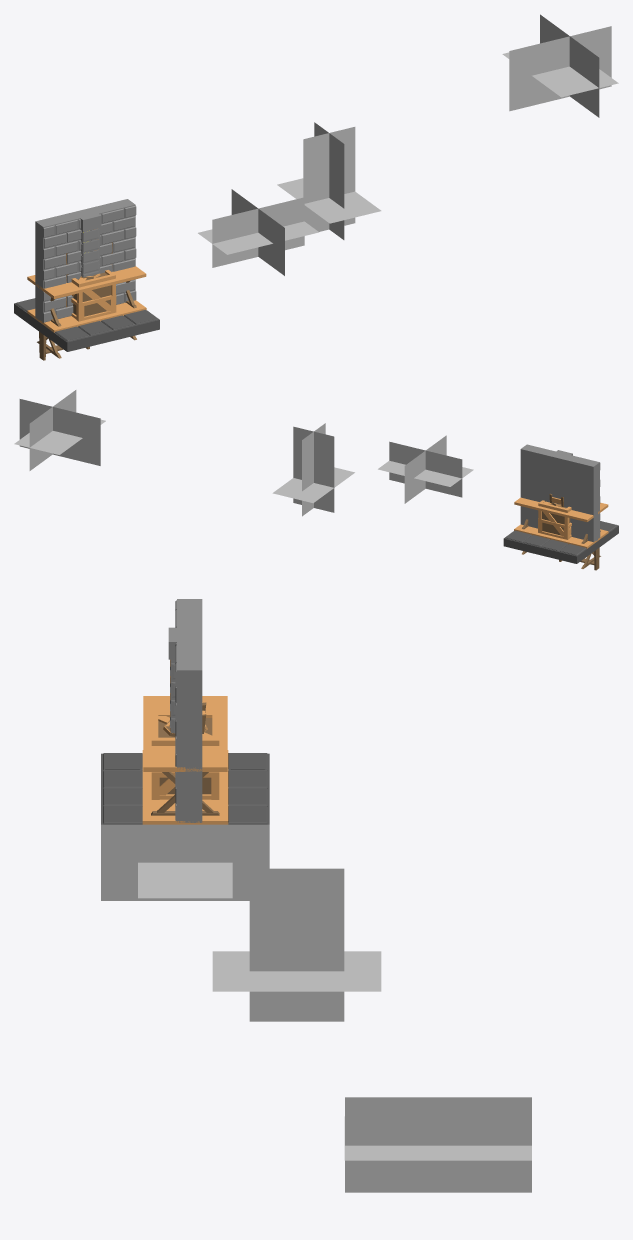
Rendered from Assets.fbx.
The picture shows the model from 3 angles, top to bottom: view 1: azimuth 30°, elevation 25°; view 2: azimuth 150°, elevation 25°; view 3: azimuth 270°, elevation 25°; orthographic projection. The views are drawn at different scales.
Visible parts, largest first — view 1: BrickWall.001, ChairSide, ShelfSide, TableFront, ChairFront, FloorTile, FloorTile.001, ShelfTop, TableSide, Crate.001, ShelfFront, ChairTop (+5 smaller); view 2: BrickWall, ChairSide, ShelfSide, TableFront, FloorTile.001, ChairFront, ShelfTop, TableSide, ChairTop, ShelfFront, TableTop, Crate.001 (+4 smaller); view 3: ChairFront, ShelfFront, TableSide, ShelfTop, FloorTile.001, FloorTile, BrickWall, Table.001, TableTop, BrickWall.001, ChairTop, Table (+2 smaller).
Part boxes in pixels (x1=…): BrickWall.001: x1=38, y1=201, x2=136, y2=322; ChairSide: x1=509, y1=26, x2=611, y2=111; ShelfSide: x1=303, y1=127, x2=355, y2=231; TableFront: x1=212, y1=197, x2=304, y2=267; ChairFront: x1=540, y1=14, x2=599, y2=117; FloorTile: x1=15, y1=299, x2=159, y2=351; FloorTile.001: x1=14, y1=298, x2=157, y2=351; ShelfTop: x1=277, y1=178, x2=381, y2=223; TableSide: x1=231, y1=189, x2=284, y2=275; Crate.001: x1=71, y1=270, x2=115, y2=321; ShelfFront: x1=314, y1=122, x2=344, y2=239; ChairTop: x1=502, y1=52, x2=618, y2=97; BrickWall: x1=520, y1=446, x2=597, y2=541; ChairSide: x1=19, y1=399, x2=100, y2=465; ShelfSide: x1=293, y1=426, x2=334, y2=512; TableFront: x1=389, y1=441, x2=462, y2=497; FloorTile.001: x1=504, y1=521, x2=618, y2=563; ChairFront: x1=29, y1=390, x2=76, y2=470; ShelfTop: x1=272, y1=467, x2=354, y2=503; TableSide: x1=404, y1=435, x2=446, y2=503; ChairTop: x1=14, y1=419, x2=105, y2=454; ShelfFront: x1=302, y1=423, x2=325, y2=516; TableTop: x1=378, y1=460, x2=473, y2=486; Crate.001: x1=538, y1=500, x2=571, y2=538; ChairFront: x1=345, y1=1097, x2=531, y2=1192; ShelfFront: x1=249, y1=868, x2=344, y2=1021; TableSide: x1=101, y1=824, x2=269, y2=900; ShelfTop: x1=212, y1=951, x2=381, y2=991; FloorTile.001: x1=103, y1=753, x2=269, y2=824; FloorTile: x1=101, y1=753, x2=269, y2=824; BrickWall: x1=185, y1=599, x2=202, y2=822; Table.001: x1=143, y1=696, x2=227, y2=815; TableTop: x1=138, y1=862, x2=232, y2=898; BrickWall.001: x1=175, y1=599, x2=193, y2=822; ChairTop: x1=344, y1=1116, x2=531, y2=1160; Table: x1=142, y1=750, x2=228, y2=824.
Bounding box in the file's own units: 1411 × 277 × 512.
